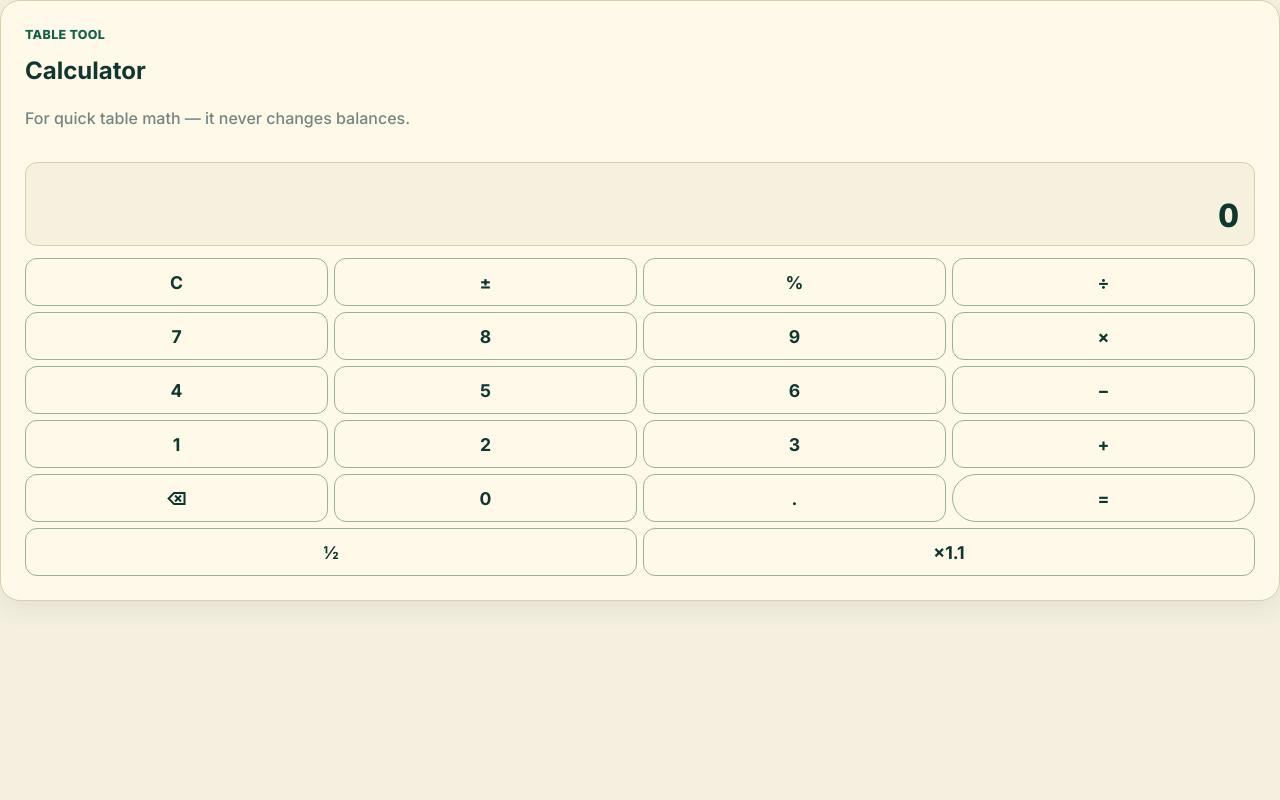
it: TableCalculator › chains operations from the keys
The width and height of the screenshot is (1280, 800).
Click the button "2" at (486, 444), box [334, 420, 637, 468]
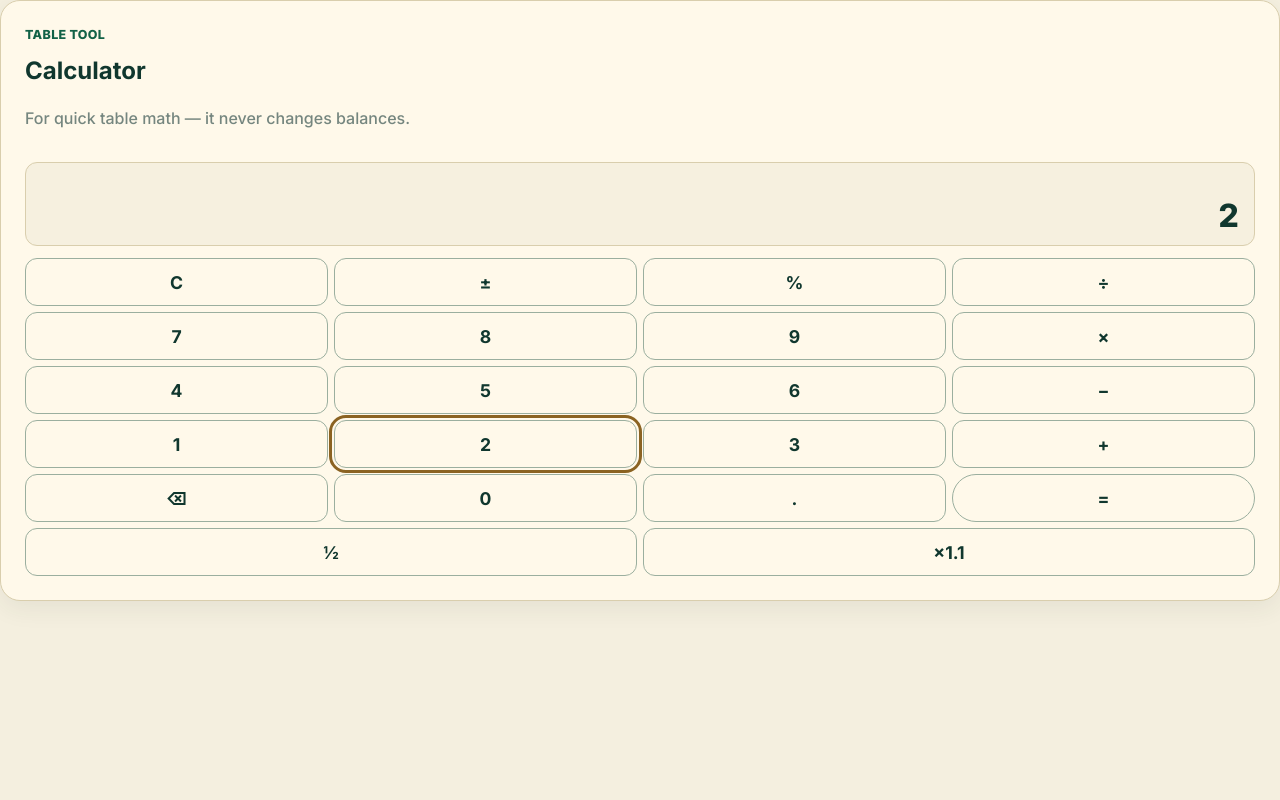
Click the button named "Add" at (1104, 444), box [952, 420, 1255, 468]
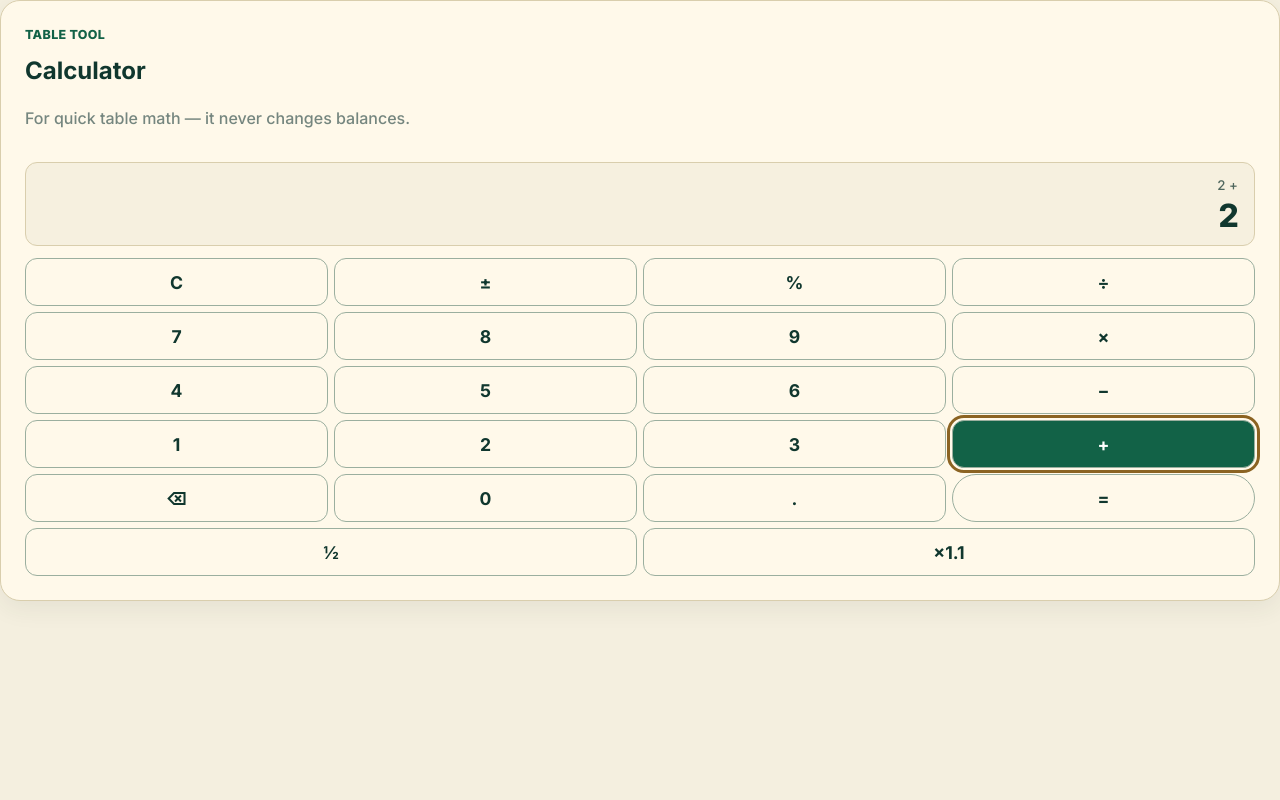
Click the button "3" at (794, 444), box [643, 420, 946, 468]
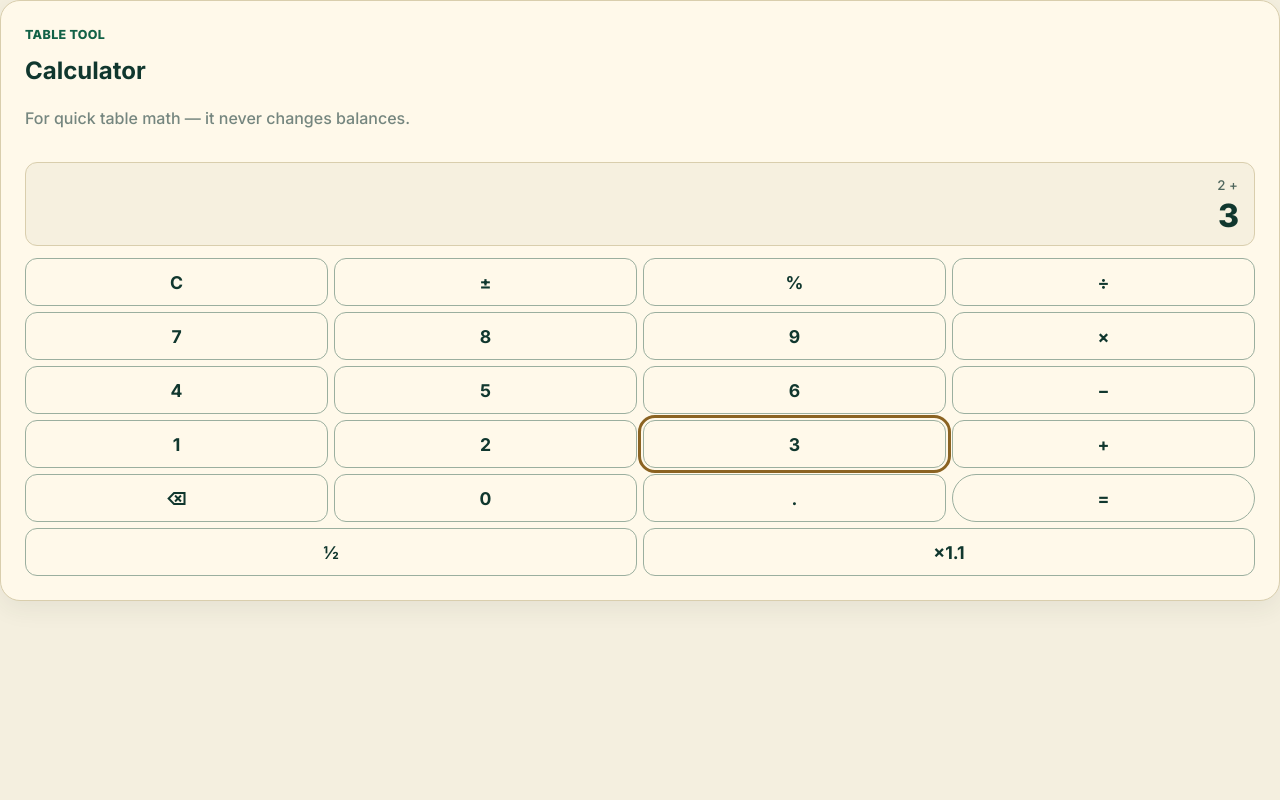
Click the button named "Multiply" at (1104, 336), box [952, 312, 1255, 360]
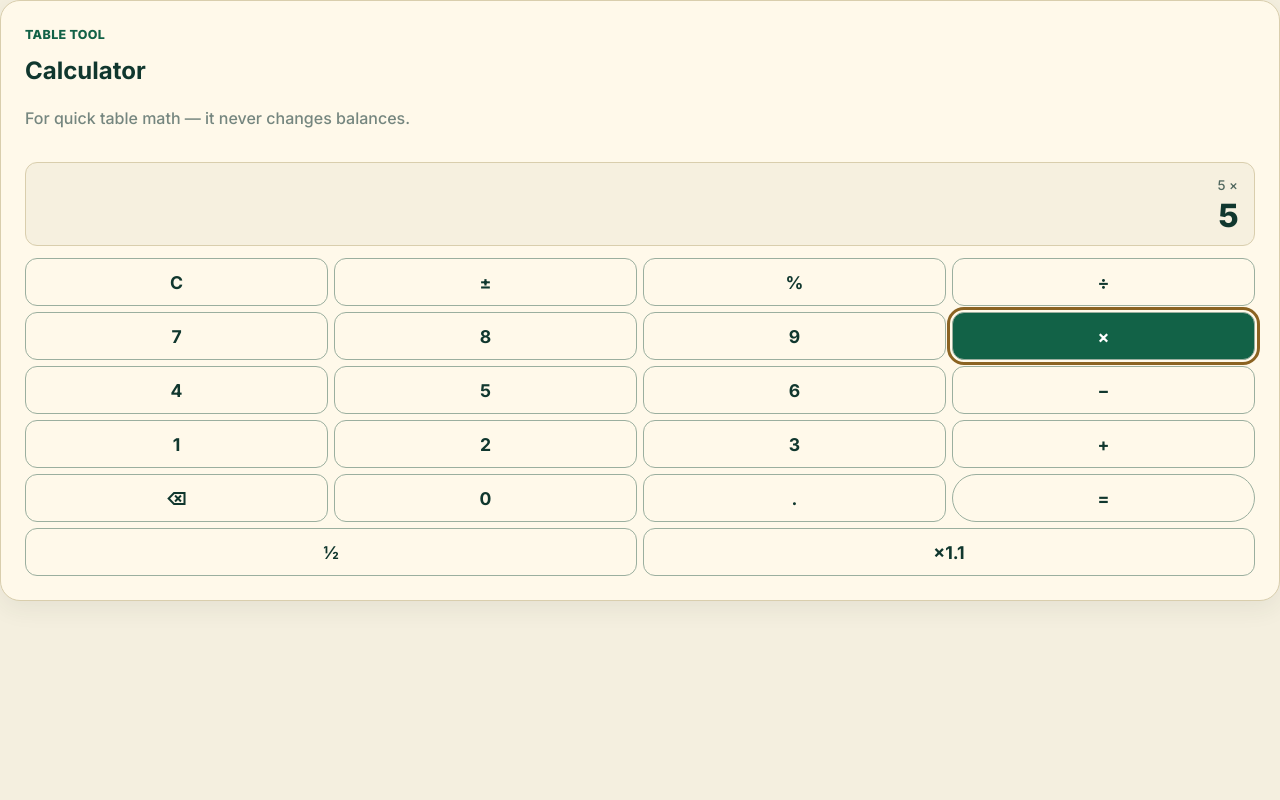
Click the button "4" at (176, 390), box [25, 366, 328, 414]
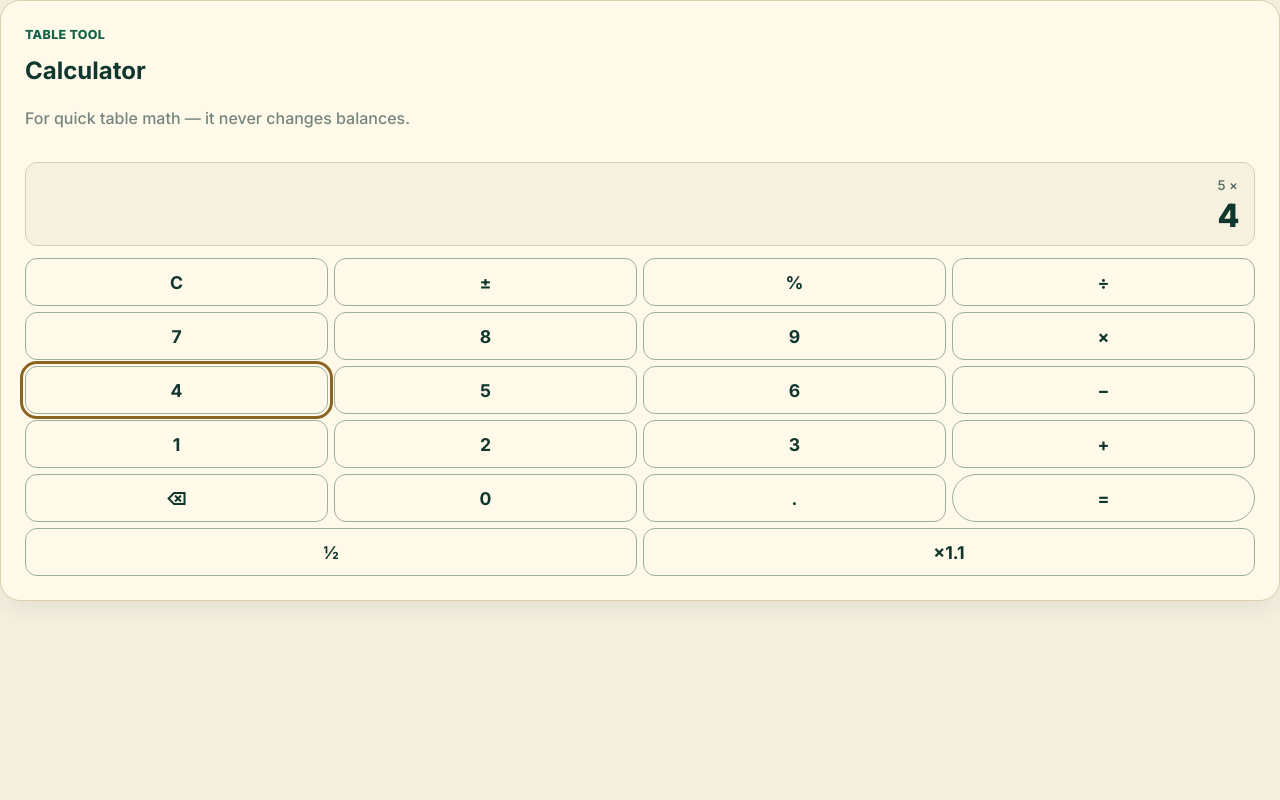
Click the button named "Equals" at (1104, 498), box [952, 474, 1255, 522]
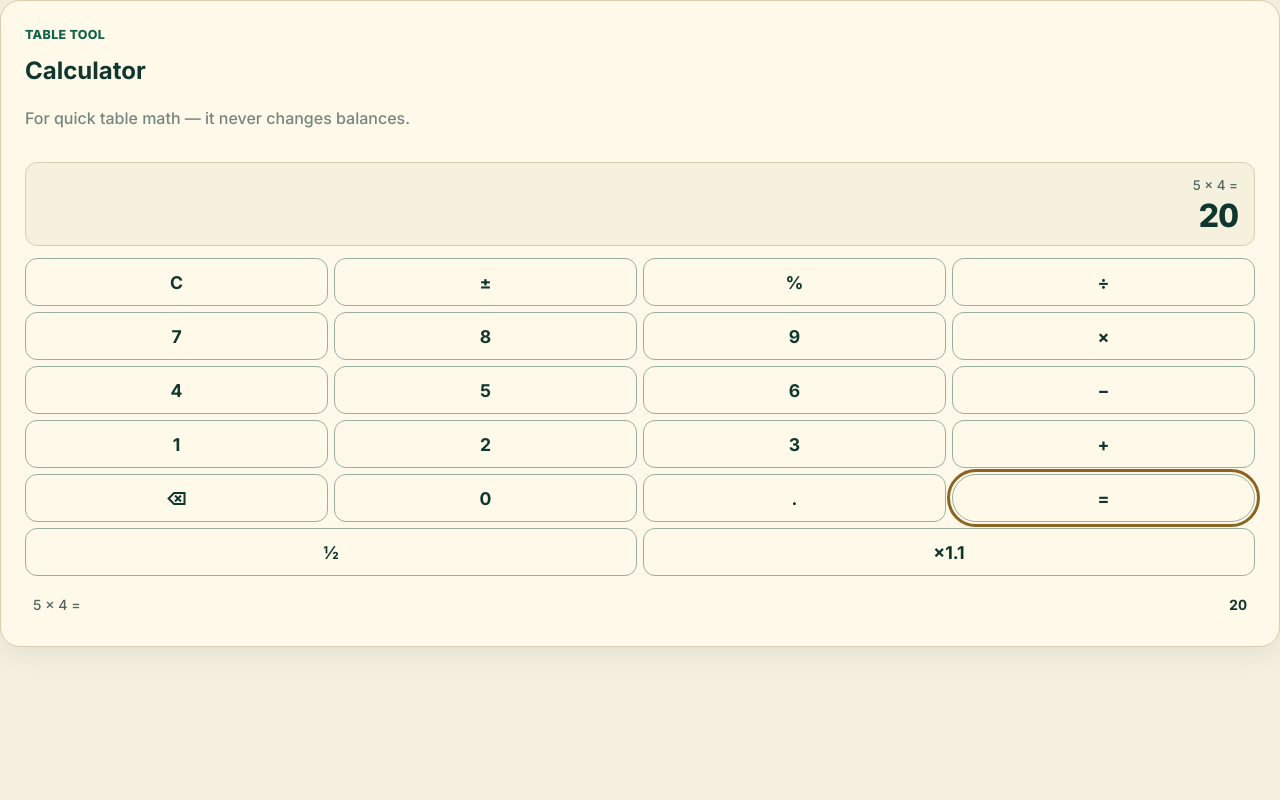
Check: the element named "Calculator display" shows "20", box [1199, 196, 1238, 235]
Check: the element named "Calculator display" shows "5 × 4 =", box [1193, 178, 1238, 194]
